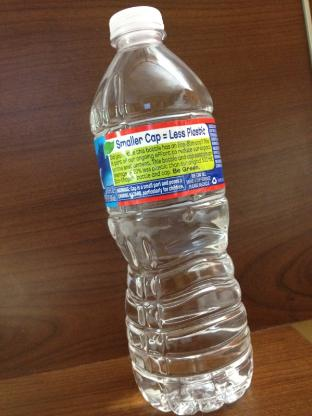Plastic Bottle: (89, 6, 253, 414)
